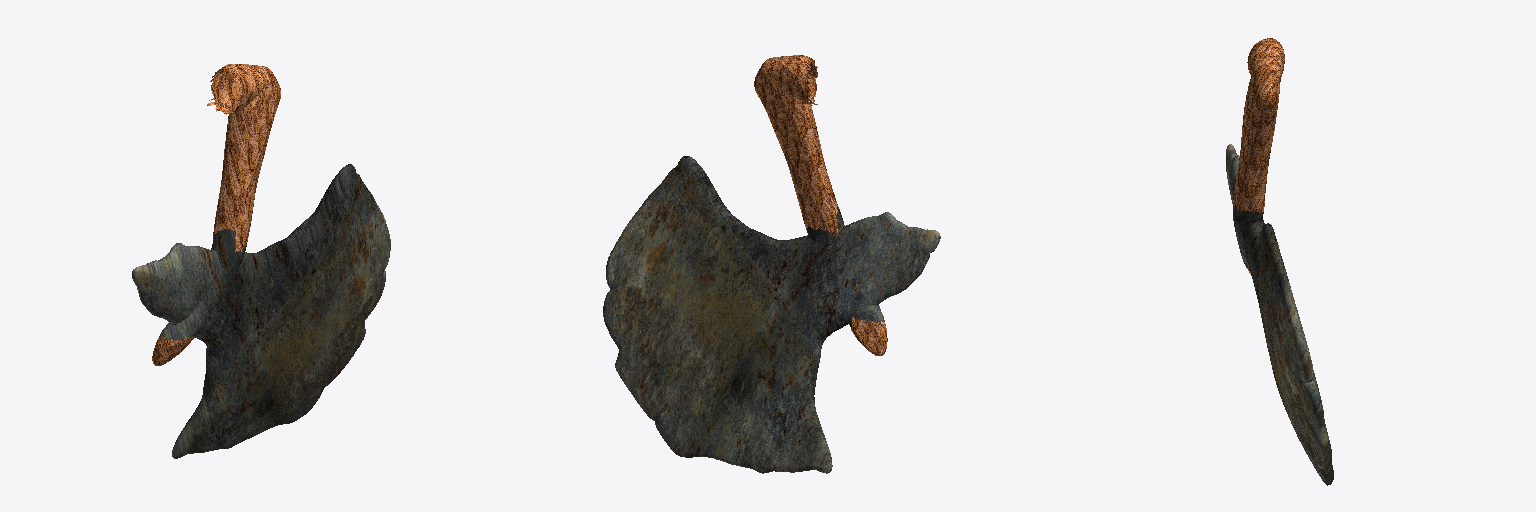
3 views of the same model, side by side, from view 1: azimuth 30°, elevation 25°; view 2: azimuth 150°, elevation 25°; view 3: azimuth 270°, elevation 25° (orthographic).
Visible parts, largest first — view 1: Object; view 2: Object; view 3: Object.
Part boxes in pixels (bbox=[...]): Object: bbox=[132, 64, 390, 458]; Object: bbox=[603, 55, 940, 473]; Object: bbox=[1226, 38, 1333, 485].
Bounding box in the file's own units: 23.89 × 31.16 × 7.54.
Materials: 2 (2 with a texture image).